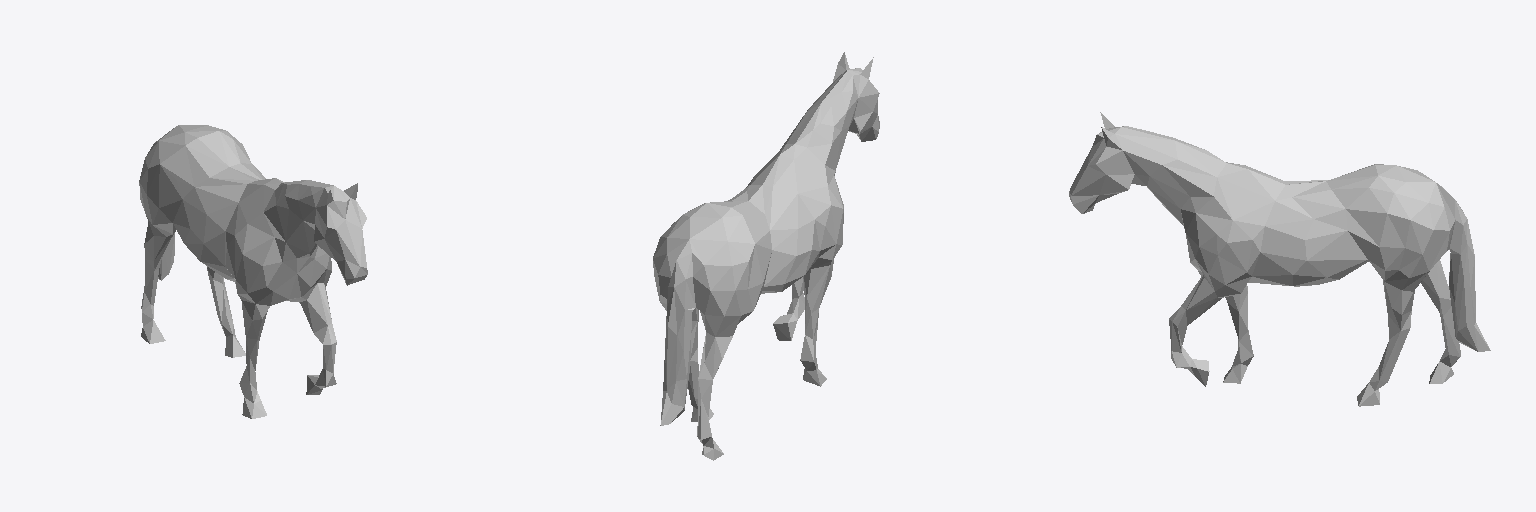
Rendered from horse.obj.
3 renders of one model, left to right at view 1: azimuth 30°, elevation 25°; view 2: azimuth 150°, elevation 25°; view 3: azimuth 270°, elevation 25°, orthographic.
Visible parts, largest first — view 1: Horse.001; view 2: Horse.001; view 3: Horse.001.
Part boxes in pixels (x1,y1,x2,y2): Horse.001: (139, 125, 367, 418); Horse.001: (653, 52, 879, 460); Horse.001: (1069, 112, 1490, 406).
Bounding box in the file's own units: 0.5019 × 1.36 × 1.91.